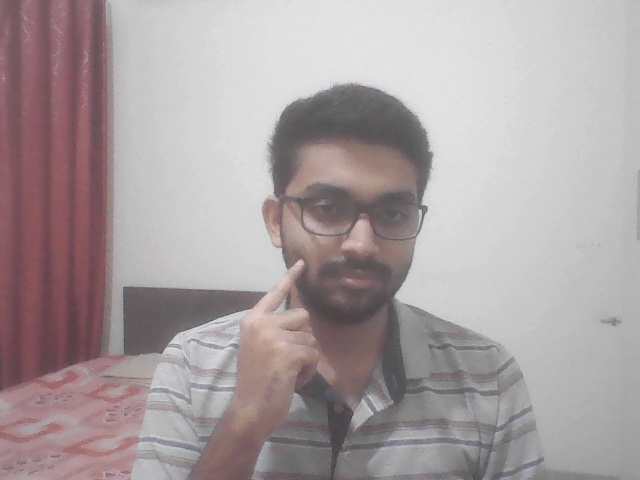deaf: (182, 227, 332, 480)
